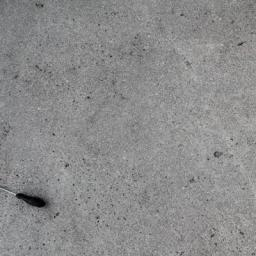FOD: (2, 185, 49, 212)
